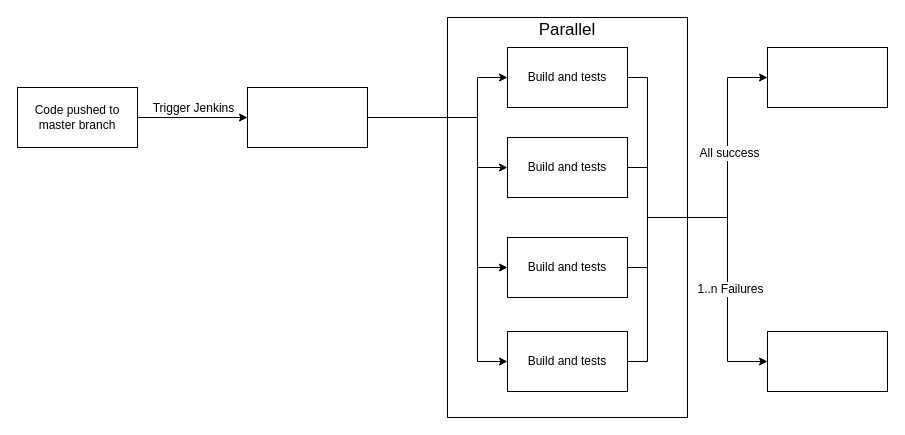
Image size: 905x435. Some labels were removed from this diagram. The centre of each missing label's shape, as x and y in pixels:
Done: (x=827, y=77)
Jenkins pulls from git: (x=307, y=117)
Send alert: (x=827, y=361)
